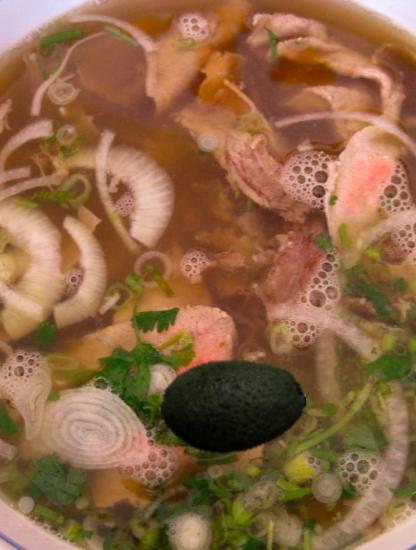Avocado: (159, 333, 307, 481)
